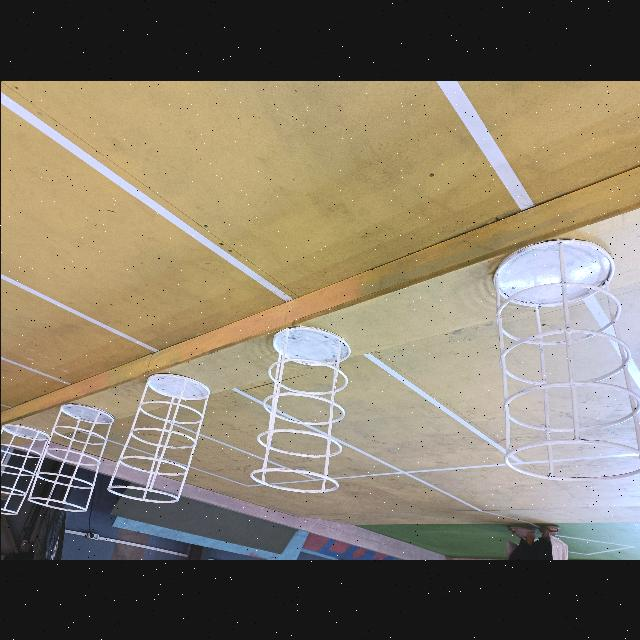S: (491, 237, 640, 481), (249, 324, 351, 495), (107, 373, 211, 505), (31, 404, 113, 512), (0, 424, 50, 517)
